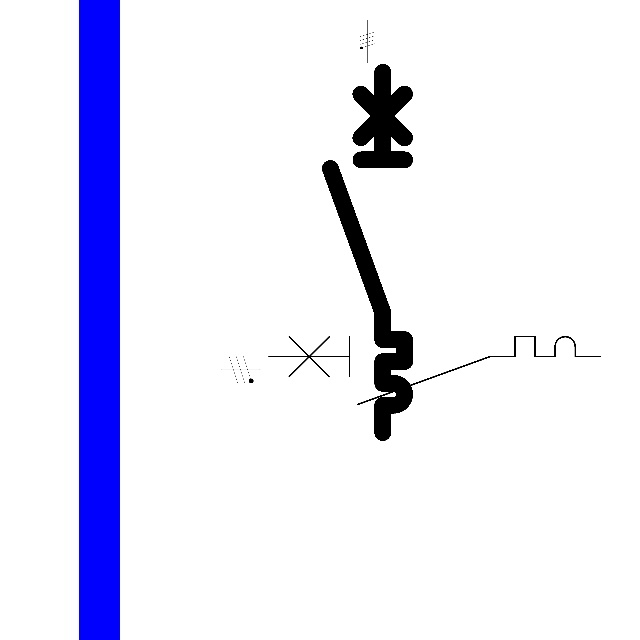interruptor_termomagnetico: (321, 62, 414, 441), (260, 328, 609, 413)
